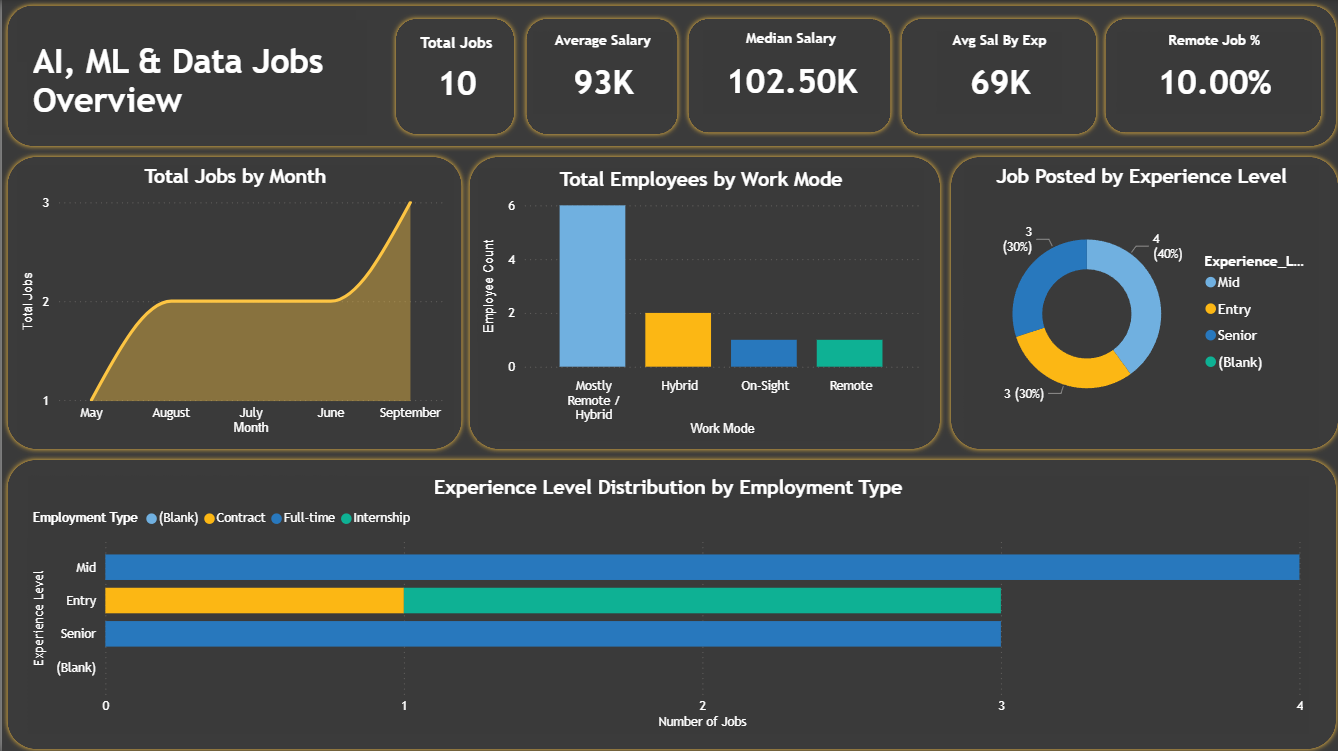

The dashboard page shown, as its layout file describes it:
{"tool":"powerbi","page":{"name":"Overview","canvas":[1280,720],"ordinal":0},"visuals":[{"type":"shape","box":[0,0,1279.1,144.7],"z":0},{"type":"textbox","box":[15,10,323,49],"z":1000},{"type":"shape","box":[853.7,12.9,196.2,120.3],"z":1000,"group":"g7"},{"type":"textbox","box":[24.4,18.6,323.7,110.3],"z":2000},{"type":"card","title":"Avg Sal By Exp","fields":{"Values":["Fact_Jobs.AvgSalaryByExperience"]},"box":[892.4,30.1,120.3,78.8],"z":2000,"group":"g7"},{"type":"group","id":"g1","title":"Group 1","box":[495.6,12.9,154.7,120.3],"z":3000,"group":"g9"},{"type":"group","id":"g2","title":"Group 7","box":[441.2,144.7,459.8,289.3],"z":3000},{"type":"group","id":"g3","title":"Group 2","box":[371,12.9,123.2,120.3],"z":4000,"group":"g9"},{"type":"shape","box":[371,12.9,123.2,120.3],"z":4000,"group":"g3"},{"type":"group","id":"g4","title":"Group 9","box":[0,144.7,444,289.3],"z":4000},{"type":"group","id":"g5","title":"Group 4","box":[650.3,12.9,203.4,118.9],"z":5000,"group":"g9"},{"type":"group","id":"g6","title":"Group 10","box":[901,145.4,380.1,289.2],"z":5000},{"type":"group","id":"g7","title":"Group 5","box":[853.7,12.9,196.2,120.3],"z":6000,"group":"g9"},{"type":"group","id":"g8","title":"Group 8","box":[0,434,1279.1,286.5],"z":6000},{"type":"group","id":"g9","title":"Group 11","box":[371,12.9,893.8,120.3],"z":7000},{"type":"shape","box":[650.3,12.9,203.4,118.9],"z":7000,"group":"g5"},{"type":"group","id":"g10","title":"Group 6","box":[1048.5,12.9,216.3,118.9],"z":7000,"group":"g9"},{"type":"card","title":"Total Jobs","fields":{"Values":["Fact_Jobs.TotalJobs"]},"box":[379.6,31.5,108.9,77.3],"z":7000,"group":"g3"},{"type":"shape","box":[495.6,12.9,154.7,120.3],"z":8000,"group":"g11"},{"type":"shape","box":[901,145.4,380.1,289.2],"z":8000,"group":"g6"},{"type":"shape","box":[0,144.7,444,289.3],"z":9000,"group":"g4"},{"type":"donutChart","title":"Job Posted by Experience Level","fields":{"Category":["Fact_Jobs.Experience_Level"],"Y":["Fact_Jobs.TotalJobs"]},"box":[918.2,158.9,339.9,262.3],"z":9000,"group":"g6"},{"type":"shape","box":[1048.5,12.9,216.3,118.9],"z":10000,"group":"g10"},{"type":"card","title":"Median Salary","fields":{"Values":["Fact_Jobs.MedianSalary"]},"box":[668.9,28.7,169,80.2],"z":10000,"group":"g5"},{"type":"card","title":"Average Salary","fields":{"Values":["Fact_Jobs.AvgSalary"]},"box":[507.1,30.1,133.2,78.8],"z":10000,"group":"g11"},{"type":"lineChart","title":"Total Jobs by Month","fields":{"Category":["Dim_Date.MonthName"],"Y":["Fact_Jobs.TotalJobs"]},"box":[14.3,158.2,416.8,262.4],"z":10000,"group":"g4"},{"type":"card","title":"Remote Job %","fields":{"Values":["Fact_Jobs.RemoteJob%"]},"box":[1064.3,30.1,186.2,78.8],"z":11000,"group":"g10"},{"type":"shape","box":[441.2,144.7,459.8,289.3],"z":12000,"group":"g2"},{"type":"shape","box":[0,434,1279.1,286.5],"z":12000,"group":"g8"},{"type":"columnChart","title":"Total Employees by Work Mode","fields":{"Category":["Fact_Jobs.WorkMode"],"Series":["Fact_Jobs.WorkMode"],"Y":["CountNonNull(Fact_Jobs.Employment_Type)"]},"box":[454.1,159.8,426.9,260.7],"z":13000,"group":"g2"},{"type":"barChart","title":"Experience Level Distribution by Employment Type","fields":{"Category":["Fact_Jobs.Experience_Level"],"Y":["Fact_Jobs.TotalJobs"],"Series":["Fact_Jobs.Employment_Type"]},"box":[24.4,454.6,1223.3,246.7],"z":13000,"group":"g8"},{"type":"group","id":"g11","title":"Group 3","box":[495.6,12.9,154.7,120.3],"z":13002,"group":"g1"}]}

Visuals, with their boxes in screenshot pixels (x1, y1, x2, y2), scaled from the page's 1280x720 canvas onto the 1338x751 screenshot:
shape: box(0, 0, 1337, 151)
textbox: box(16, 10, 353, 62)
shape: box(892, 13, 1097, 139)
textbox: box(26, 19, 364, 134)
"Avg Sal By Exp" card: box(933, 31, 1059, 114)
"Group 1" group: box(518, 13, 680, 139)
"Group 7" group: box(461, 151, 942, 453)
"Group 2" group: box(388, 13, 517, 139)
shape: box(388, 13, 517, 139)
"Group 9" group: box(0, 151, 464, 453)
"Group 4" group: box(680, 13, 892, 137)
"Group 10" group: box(942, 152, 1337, 453)
"Group 5" group: box(892, 13, 1097, 139)
"Group 8" group: box(0, 453, 1337, 750)
"Group 11" group: box(388, 13, 1322, 139)
shape: box(680, 13, 892, 137)
"Group 6" group: box(1096, 13, 1322, 137)
"Total Jobs" card: box(397, 33, 511, 113)
shape: box(518, 13, 680, 139)
shape: box(942, 152, 1337, 453)
shape: box(0, 151, 464, 453)
"Job Posted by Experience Level" donutChart: box(960, 166, 1315, 439)
shape: box(1096, 13, 1322, 137)
"Median Salary" card: box(699, 30, 876, 114)
"Average Salary" card: box(530, 31, 669, 114)
"Total Jobs by Month" lineChart: box(15, 165, 451, 439)
"Remote Job %" card: box(1113, 31, 1307, 114)
shape: box(461, 151, 942, 453)
shape: box(0, 453, 1337, 750)
"Total Employees by Work Mode" columnChart: box(475, 167, 921, 439)
"Experience Level Distribution by Employment Type" barChart: box(26, 474, 1304, 731)
"Group 3" group: box(518, 13, 680, 139)
